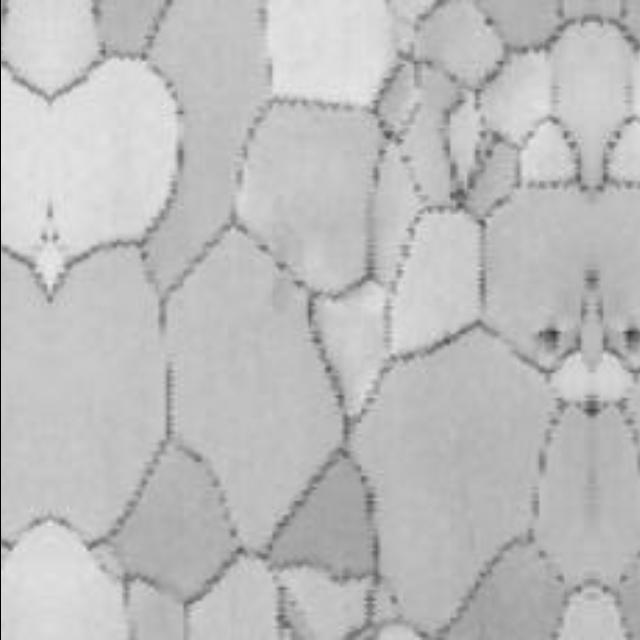good_void: (528, 322, 565, 357), (619, 324, 640, 353), (383, 592, 399, 607)
